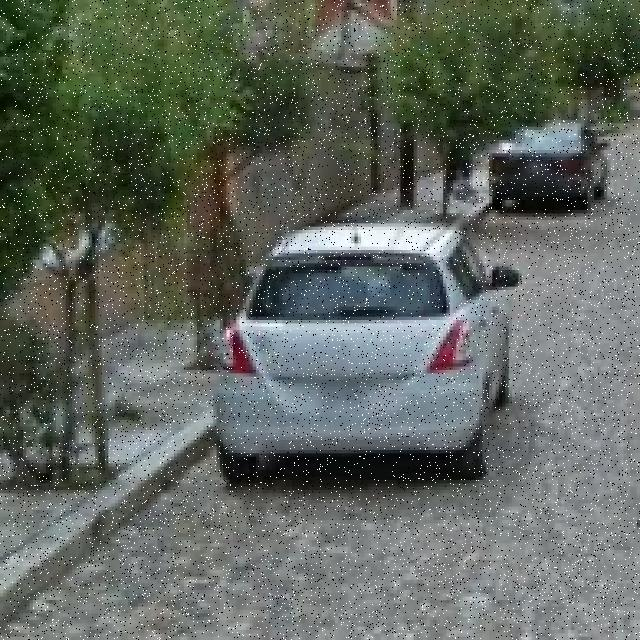cars: (222, 214, 514, 504), (500, 132, 622, 198)
